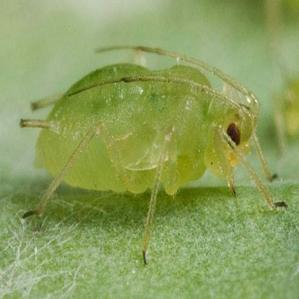Green peach aphid: (8, 24, 298, 268)
